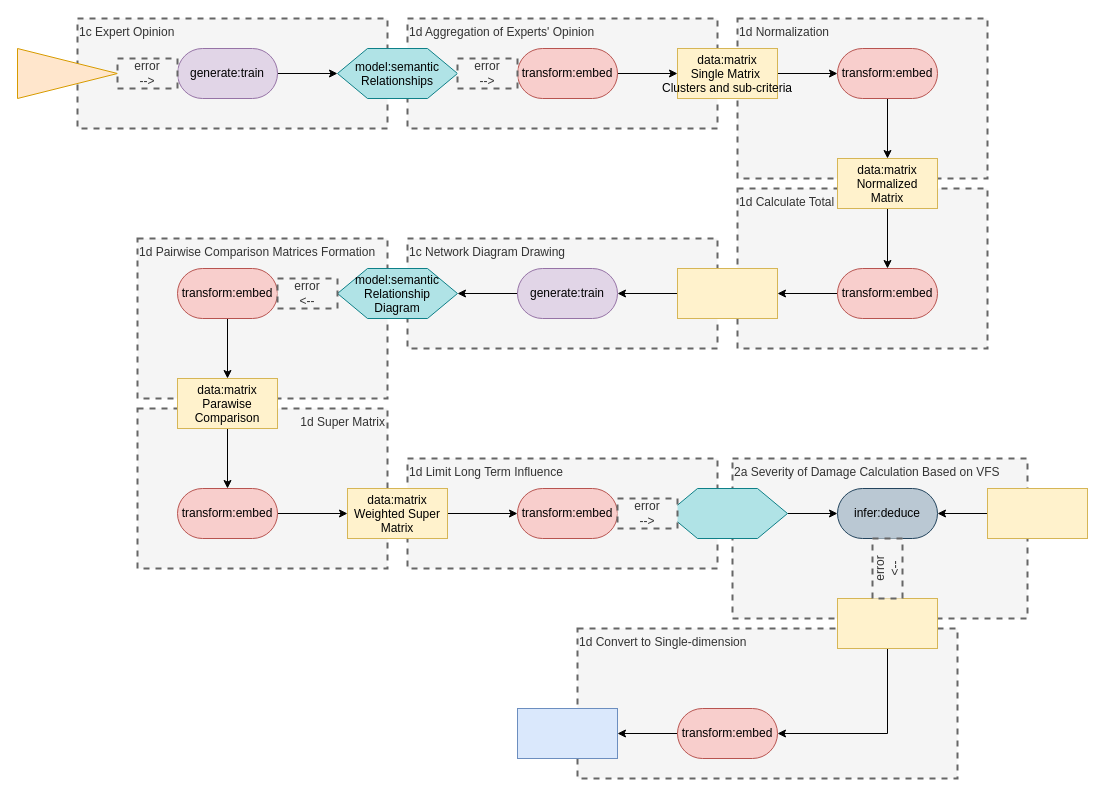
Image size: 1105x796. Some labels were removed from this diagram. The centre of each missing label's shape, as x and y in pixels:
"actor Diabetes Experts" belongs at (67,73).
"data Patient Data" belongs at (1037,513).
"data:matrix Total Relationship Matrix" belongs at (727,293).
"data:tensor Damage Severity" belongs at (887,623).
"model:static Limited Weighted Super Matrix" belongs at (727,513).
"symbol Damage Severity" belongs at (567,733).
